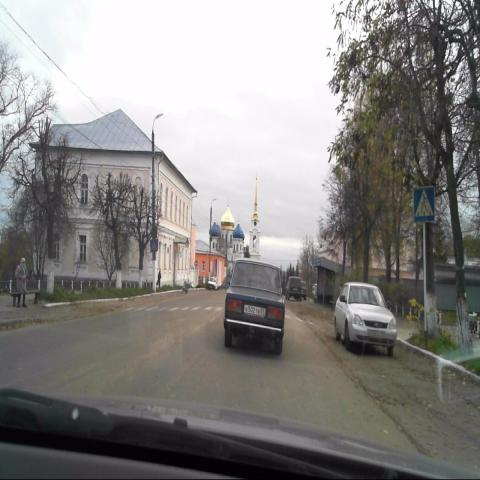5_19_1: (414, 184, 435, 222), (150, 238, 158, 253)
